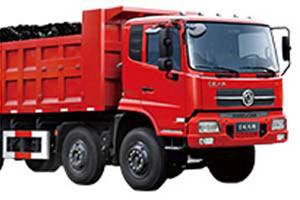truck: (1, 2, 294, 189)
